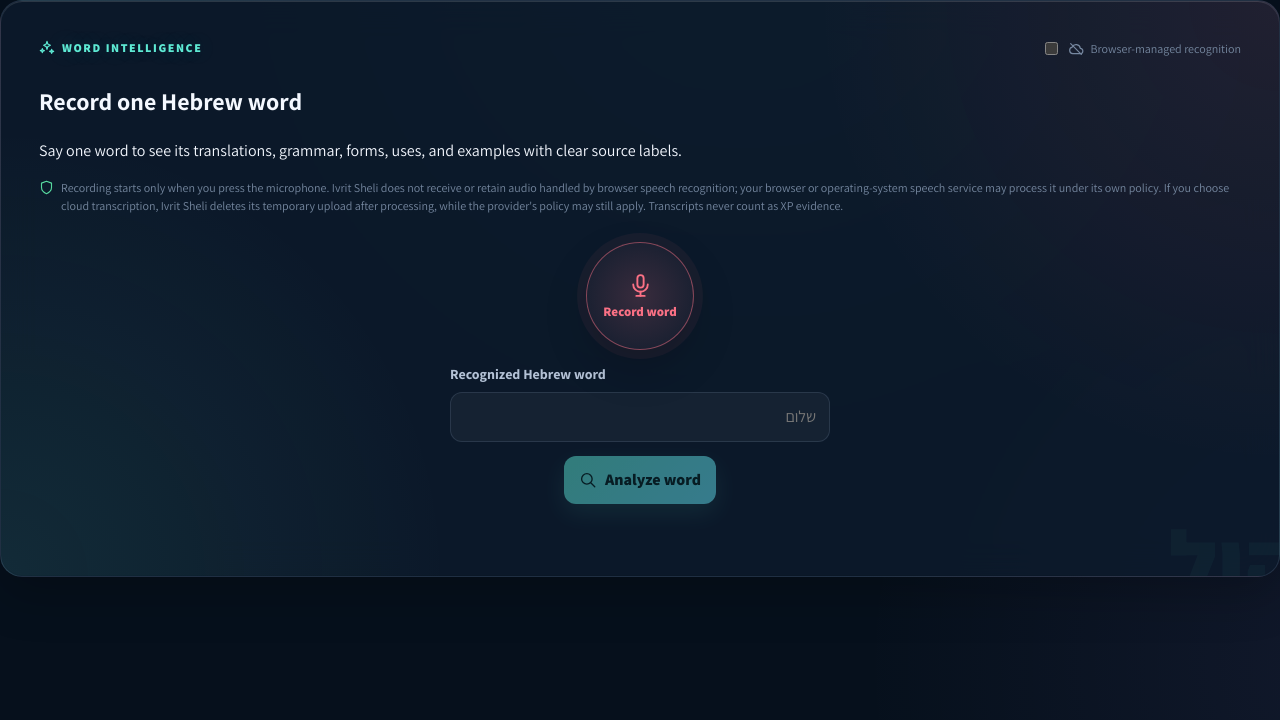
it: MicWordAnalyzer › requests microphone recognition only after the learner presses record
Click the button "Record word": click(640, 296) [586,242,694,350]
(page scrolled)
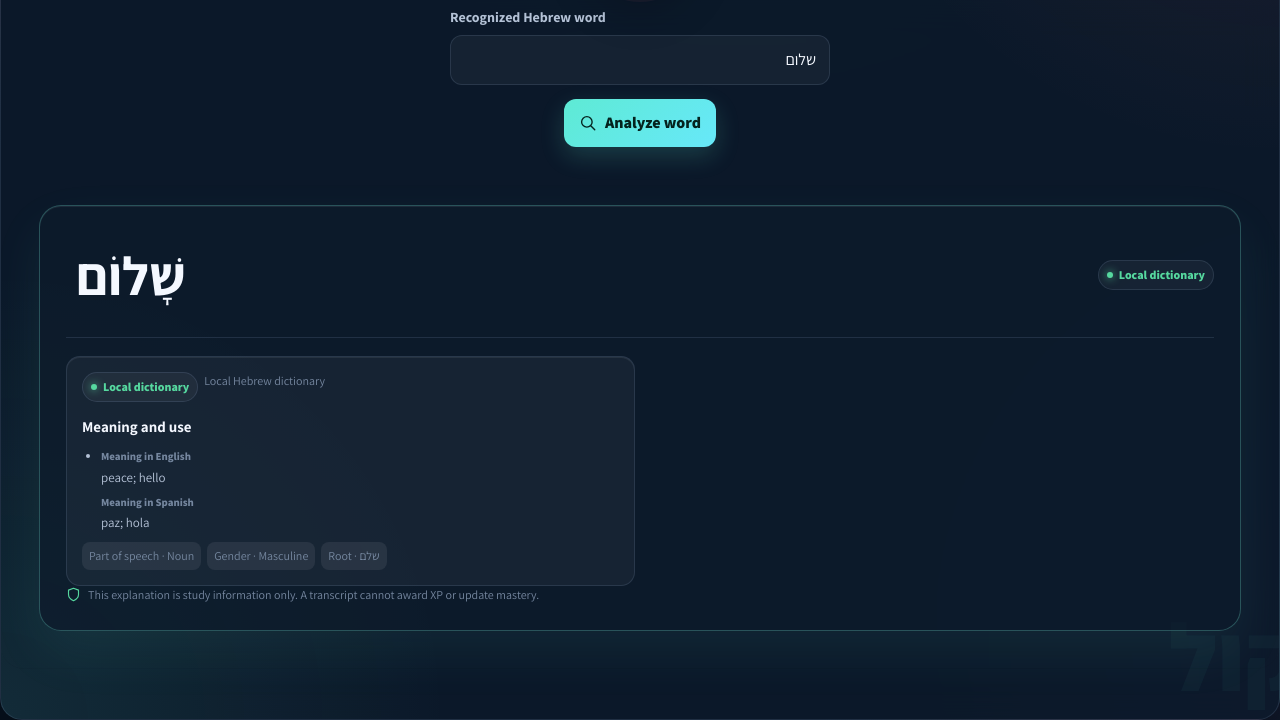
Expected: the text "peace; hello" is shown, [101,469,166,486]
Expected: the 1st text "Local dictionary" is shown, [1098,260,1214,290]
Expected: the text "cannot award XP" is shown, [88,587,539,602]
